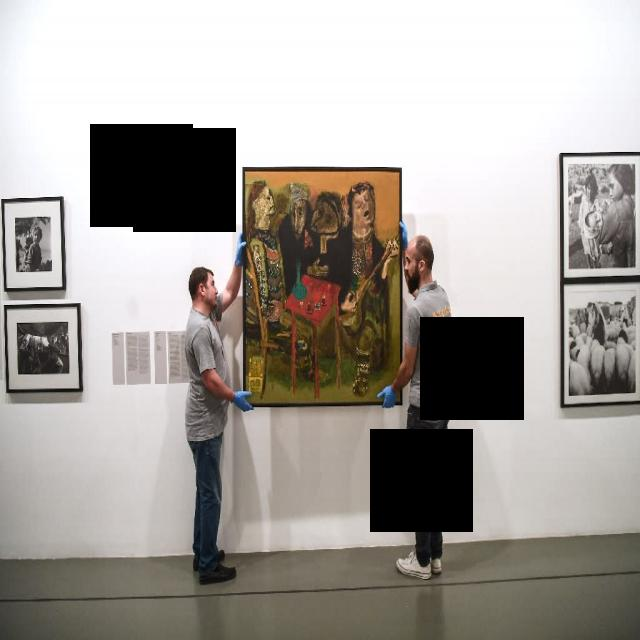Tablo: (243, 168, 402, 406), (561, 154, 640, 279), (562, 281, 640, 406), (5, 305, 81, 391), (4, 198, 64, 291)
